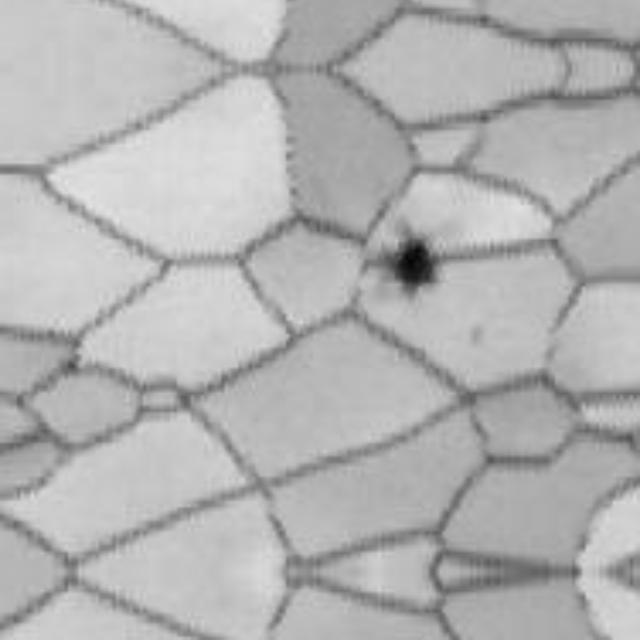good_void: (376, 221, 446, 290)
